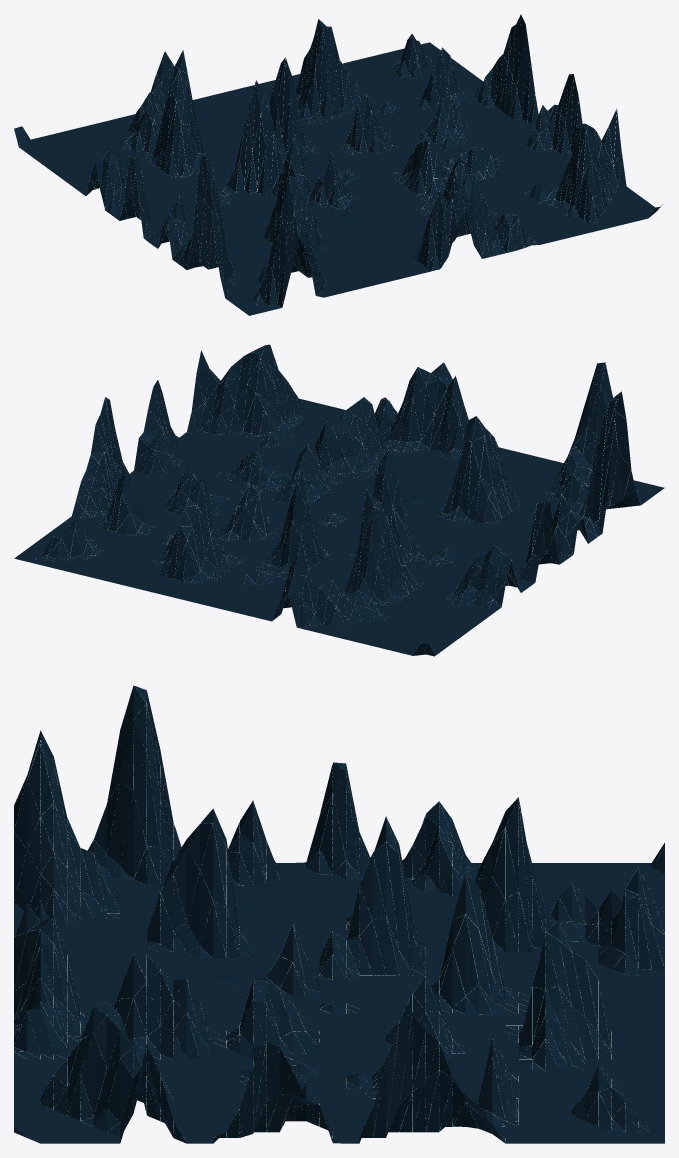
The model's file is map2.gltf.
3 renders of one model, top to bottom at view 1: azimuth 30°, elevation 25°; view 2: azimuth 150°, elevation 25°; view 3: azimuth 270°, elevation 25°, orthographic. The views are drawn at different scales.
Visible parts, largest first — view 1: mapa02, mapa02.001; view 2: mapa02, mapa02.001; view 3: mapa02, mapa02.001.
Part boxes in pixels (x1,y1,x2,y2): mapa02: [14, 14, 662, 315]; mapa02.001: [22, 24, 660, 307]; mapa02: [14, 344, 664, 656]; mapa02.001: [46, 352, 640, 642]; mapa02: [14, 685, 664, 1143]; mapa02.001: [14, 694, 664, 1141].
Size of the model in its own units: 300 by 88.54 by 294.
